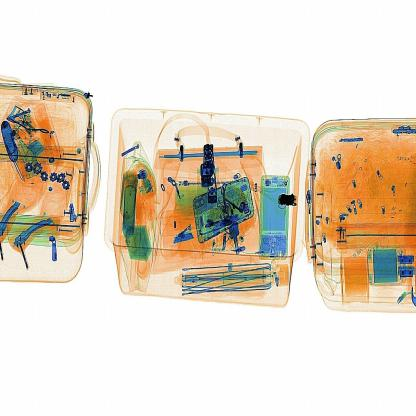scissors: (275, 186, 302, 212)
